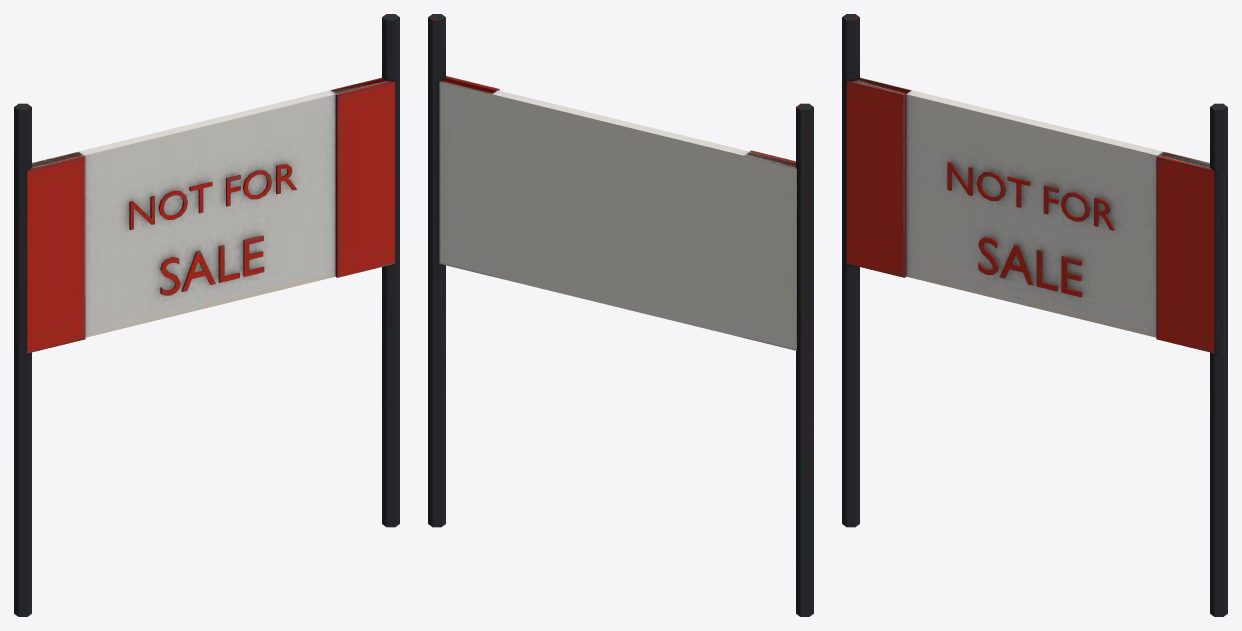
File: pancarta_canada.glb
3 renders of one model, left to right at view 1: azimuth 30°, elevation 25°; view 2: azimuth 150°, elevation 25°; view 3: azimuth 330°, elevation 25°, orthographic.
Parts seen in each view (by area): view 1: pancarta_canada; view 2: pancarta_canada; view 3: pancarta_canada.
Boxes of the visible parts, box(x1,y1,x2,y2) form: pancarta_canada: box(14, 14, 399, 616); pancarta_canada: box(428, 14, 813, 616); pancarta_canada: box(842, 14, 1227, 616).
Bounding box in the file's own units: 1.97 × 2.5 × 0.09.
Materials: 1 (1 with a texture image).
